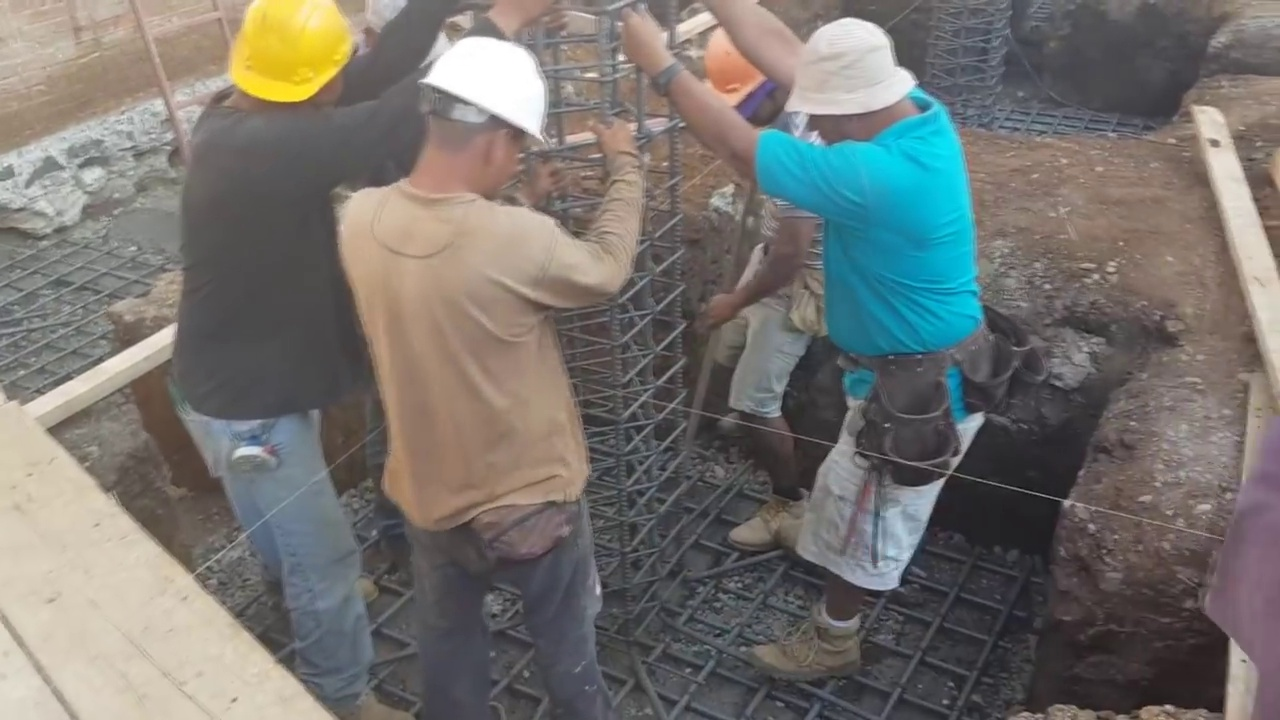helmet: (417, 34, 548, 148), (224, 2, 357, 105), (697, 23, 781, 107)
helmet-off: (789, 17, 936, 150)
helmet-on: (398, 33, 549, 207), (211, 2, 357, 119), (696, 14, 793, 137)
person: (180, 2, 550, 717), (619, 3, 985, 686), (332, 36, 645, 718), (694, 8, 823, 555)
